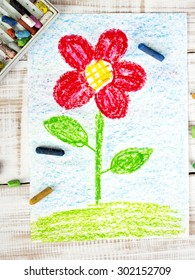flower: (44, 27, 157, 206)
